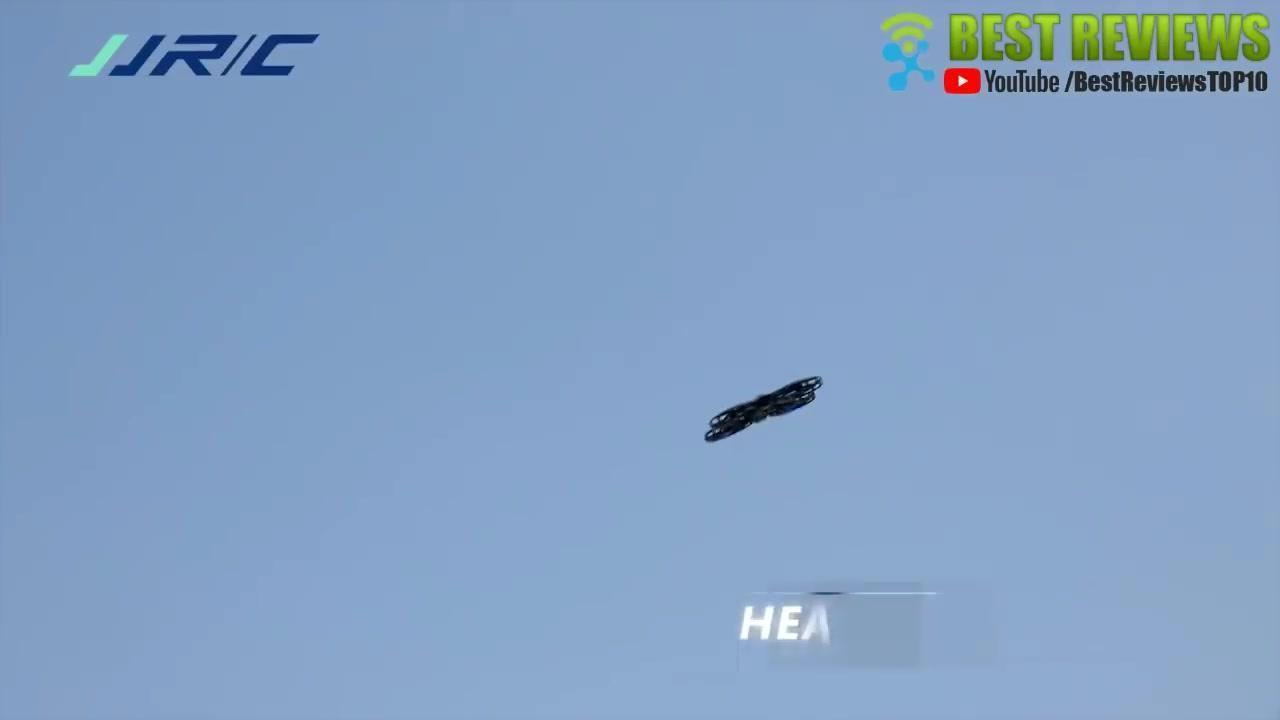UAV: (705, 377, 824, 444)
